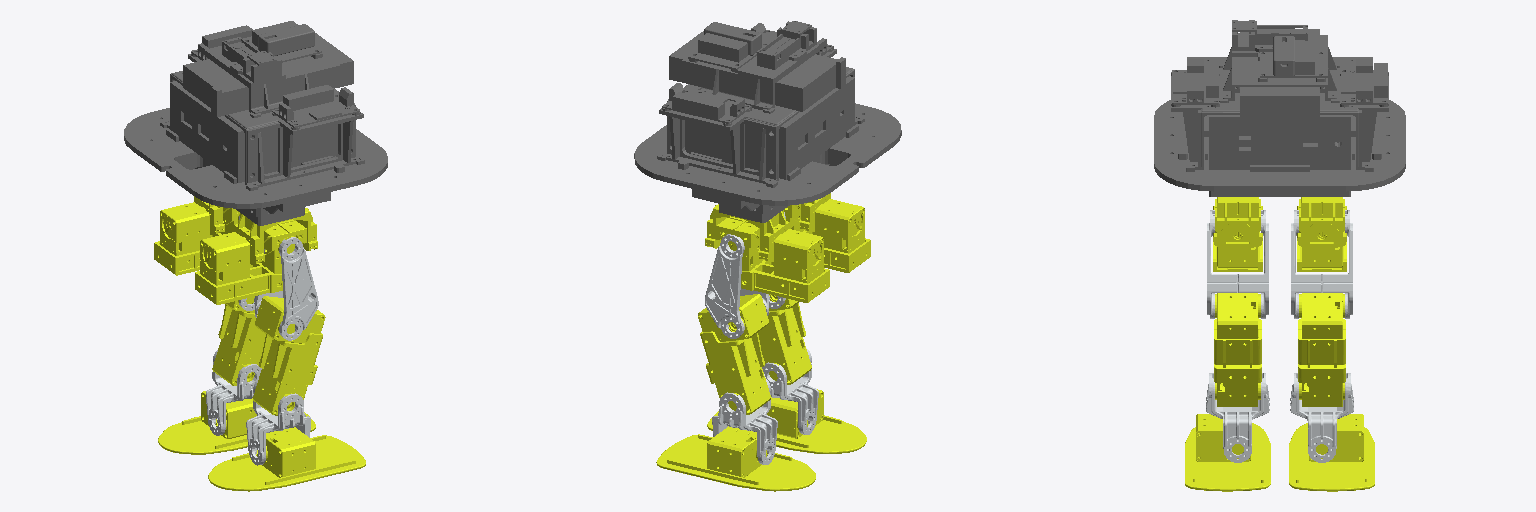
The robot description file, URDF, robot "exhx5_w_b_16":
<?xml version="1.0" encoding="utf-8"?>
<!-- This URDF was automatically created by SolidWorks to URDF Exporter! Originally created by [author] ([email redacted]) 
     Commit Version: 1.5.1-0-g916b5db  Build Version: 1.5.7152.31018
     For more information, please see http://wiki.ros.org/sw_urdf_exporter -->
<robot
  name="exhx5_w_b_16">
  <link
    name="body_link">
    <inertial>
      <origin
        xyz="0.00043545 0.00025536 0.10071"
        rpy="0 0 0" />
      <mass
        value="1.8238" />
      <inertia
        ixx="0.0025905"
        ixy="-5.6852E-06"
        ixz="-1.3106E-05"
        iyy="0.0024595"
        iyz="-1.261E-06"
        izz="0.0046407" />
    </inertial>
    <visual>
      <origin
        xyz="0 0 0"
        rpy="0 0 0" />
      <geometry>
        <mesh
          filename="../meshes/body_link.STL" />
      </geometry>
      <material
        name="">
        <color
          rgba="0.49804 0.49804 0.49804 1" />
      </material>
    </visual>
    <collision>
      <origin
        xyz="0 0 0"
        rpy="0 0 0" />
      <geometry>
        <mesh
          filename="../meshes/body_link.STL" />
      </geometry>
    </collision>
  </link>

  <link
    name="imu_link">
    <inertial>
      <origin
        xyz="-0.008387 1.336E-17 -0.0069463"
        rpy="0 0 0" />
      <mass
        value="0.0062931" />
      <inertia
        ixx="3.2242E-07"
        ixy="3.3527E-22"
        ixz="-6.9193E-08"
        iyy="9.2229E-07"
        iyz="-8.0392E-22"
        izz="1.1018E-06" />
    </inertial>
    <visual>
      <origin
        xyz="0 0 0"
        rpy="0 0 0" />
      <geometry>
        <mesh
          filename="../meshes/imu_link.STL" />
      </geometry>
      <material
        name="">
        <color
          rgba="0.79216 0.81961 0.93333 1" />
      </material>
    </visual>
    <collision>
      <origin
        xyz="0 0 0"
        rpy="0 0 0" />
      <geometry>
        <mesh
          filename="../meshes/imu_link.STL" />
      </geometry>
    </collision>
  </link>
  <joint
    name="imu"
    type="fixed">
    <origin
      xyz="0 0 0.0492"
      rpy="0 0 0" />
    <parent
      link="body_link" />
    <child
      link="imu_link" />
    <axis
      xyz="0 0 0" />
    <limit
      lower="-3.14"
      upper="3.14"
      effort="4"
      velocity="4" />
  </joint>
  <link
    name="l_hip_g_link">
    <inertial>
      <origin
        xyz="-0.0043797 -8.6604E-08 0.011813"
        rpy="0 0 0" />
      <mass
        value="0.061008" />
      <inertia
        ixx="1.167E-05"
        ixy="7.1767E-11"
        ixz="9.1442E-09"
        iyy="2.2342E-05"
        iyz="2.5177E-11"
        izz="2.4892E-05" />
    </inertial>
    <visual>
      <origin
        xyz="0 0 0"
        rpy="0 0 0" />
      <geometry>
        <mesh
          filename="../meshes/l_hip_g_link.STL" />
      </geometry>
      <material
        name="">
        <color
          rgba="0.9451 1 0.18431 1" />
      </material>
    </visual>
    <collision>
      <origin
        xyz="0 0 0"
        rpy="0 0 0" />
      <geometry>
        <mesh
          filename="../meshes/l_hip_g_link.STL" />
      </geometry>
    </collision>
  </link>
  <joint
    name="l_hip_g"
    type="fixed">
    <origin
      xyz="-.002 .035 0"
      rpy="0 0 0" />
    <parent
      link="body_link" />
    <child
      link="l_hip_g_link" />
    <axis
      xyz="0 0 0" />
  </joint>
  <link
    name="l_hip_roll_link">
    <inertial>
      <origin
        xyz="0.013831 0.00033457 0.025453"
        rpy="0 0 0" />
      <mass
        value="0.2969" />
      <inertia
        ixx="7.8136E-05"
        ixy="7.265E-07"
        ixz="-6.9809E-08"
        iyy="9.2183E-05"
        iyz="-5.6881E-11"
        izz="7.1034E-05" />
    </inertial>
    <visual>
      <origin
        xyz="0 0 0"
        rpy="0 0 0" />
      <geometry>
        <mesh
          filename="../meshes/l_hip_roll_link.STL" />
      </geometry>
      <material
        name="">
        <color
          rgba="0.9451 1 0.18431 1" />
      </material>
    </visual>
    <collision>
      <origin
        xyz="0 0 0"
        rpy="0 0 0" />
      <geometry>
        <mesh
          filename="../meshes/l_hip_roll_link.STL" />
      </geometry>
    </collision>
  </link>
  <joint
    name="l_hip_roll"
    type="revolute">
    <origin
      xyz="0 0 0"
      rpy="3.1416 1.5708 0" />
    <parent
      link="l_hip_g_link" />
    <child
      link="l_hip_roll_link" />
    <axis
      xyz="0 0 1" />
    <limit
      lower="-3.14"
      upper="3.14"
      effort="4"
      velocity="4" />
  </joint>
  <link
    name="l_hip_pitch_link">
    <inertial>
      <origin
        xyz="0.041225 -0.007321 -5.0713E-08"
        rpy="0 0 0" />
      <mass
        value="0.051592" />
      <inertia
        ixx="2.7959E-05"
        ixy="2.0752E-06"
        ixz="-8.0934E-11"
        iyy="4.8156E-05"
        iyz="3.6317E-11"
        izz="2.9604E-05" />
    </inertial>
    <visual>
      <origin
        xyz="0 0 0"
        rpy="0 0 0" />
      <geometry>
        <mesh
          filename="../meshes/l_hip_pitch_link.STL" />
      </geometry>
      <material
        name="">
        <color
          rgba="0.89804 0.91765 0.92941 1" />
      </material>
    </visual>
    <collision>
      <origin
        xyz="0 0 0"
        rpy="0 0 0" />
      <geometry>
        <mesh
          filename="../meshes/l_hip_pitch_link.STL" />
      </geometry>
    </collision>
  </link>
  <joint
    name="l_hip_pitch"
    type="revolute">
    <origin
      xyz="0 0 0"
      rpy="1.5708 0 0" />
    <parent
      link="l_hip_roll_link" />
    <child
      link="l_hip_pitch_link" />
    <axis
      xyz="0 0 1" />
    <limit
      lower="-3.14"
      upper="3.14"
      effort="4"
      velocity="4" />
  </joint>
  <link
    name="l_knee_link">
    <inertial>
      <origin
        xyz="0.033756 -0.0084189 -6.6115E-09"
        rpy="0 0 0" />
      <mass
        value="0.28878" />
      <inertia
        ixx="6.6724E-05"
        ixy="7.5004E-07"
        ixz="-8.4578E-07"
        iyy="6.5699E-05"
        iyz="4.1085E-07"
        izz="7.0381E-05" />
    </inertial>
    <visual>
      <origin
        xyz="0 0 0"
        rpy="0 0 0" />
      <geometry>
        <mesh
          filename="../meshes/l_knee_link.STL" />
      </geometry>
      <material
        name="">
        <color
          rgba="0.9451 1 0.18431 1" />
      </material>
    </visual>
    <collision>
      <origin
        xyz="0 0 0"
        rpy="0 0 0" />
      <geometry>
        <mesh
          filename="../meshes/l_knee_link.STL" />
      </geometry>
    </collision>
  </link>
  <joint
    name="l_knee"
    type="revolute">
    <origin
      xyz="0.075954 0 0"
      rpy="0 0 0" />
    <parent
      link="l_hip_pitch_link" />
    <child
      link="l_knee_link" />
    <axis
      xyz="0 0 1" />
    <limit
      lower="-3.14"
      upper="3.14"
      effort="4"
      velocity="4" />
  </joint>
  <link
    name="l_ank_pitch_link">
    <inertial>
      <origin
        xyz="0.022786 -7.3909E-09 -7.1981E-06"
        rpy="0 0 0" />
      <mass
        value="0.044772" />
      <inertia
        ixx="1.777E-05"
        ixy="8.555E-14"
        ixz="-3.3713E-09"
        iyy="1.7119E-05"
        iyz="1.7593E-11"
        izz="1.8661E-05" />
    </inertial>
    <visual>
      <origin
        xyz="0 0 0"
        rpy="0 0 0" />
      <geometry>
        <mesh
          filename="../meshes/l_ank_pitch_link.STL" />
      </geometry>
      <material
        name="">
        <color
          rgba="0.89804 0.91765 0.92941 1" />
      </material>
    </visual>
    <collision>
      <origin
        xyz="0 0 0"
        rpy="0 0 0" />
      <geometry>
        <mesh
          filename="../meshes/l_ank_pitch_link.STL" />
      </geometry>
    </collision>
  </link>
  <joint
    name="l_ank_pitch"
    type="revolute">
    <origin
      xyz="0.074602 0 0"
      rpy="3.1416 0 0" />
    <parent
      link="l_knee_link" />
    <child
      link="l_ank_pitch_link" />
    <axis
      xyz="0 0 1" />
    <limit
      lower="-3.14"
      upper="3.14"
      effort="4"
      velocity="4" />
  </joint>
  <link
    name="l_ank_roll_link">
    <inertial>
      <origin
        xyz="0.0047069 0.010728 0.0015299"
        rpy="0 0 0" />
      <mass
        value="0.16774" />
      <inertia
        ixx="0.00012039"
        ixy="-3.7428E-09"
        ixz="4.4069E-08"
        iyy="8.7735E-05"
        iyz="7.0469E-07"
        izz="4.7866E-05" />
    </inertial>
    <visual>
      <origin
        xyz="0 0 0"
        rpy="0 0 0" />
      <geometry>
        <mesh
          filename="../meshes/l_ank_roll_link.STL" />
      </geometry>
      <material
        name="">
        <color
          rgba="0.9451 1 0.18431 1" />
      </material>
    </visual>
    <collision>
      <origin
        xyz="0 0 0"
        rpy="0 0 0" />
      <geometry>
        <mesh
          filename="../meshes/l_ank_roll_link.STL" />
      </geometry>
    </collision>
  </link>
  <joint
    name="l_ank_roll"
    type="revolute">
    <origin
      xyz="0.0465 0 0"
      rpy="-1.5708 0 0" />
    <parent
      link="l_ank_pitch_link" />
    <child
      link="l_ank_roll_link" />
    <axis
      xyz="0 0 1" />
    <limit
      lower="-3.14"
      upper="3.14"
      effort="4"
      velocity="4" />
  </joint>
  <link
    name="r_hip_g_link">
    <inertial>
      <origin
        xyz="-0.0043797 -8.6604E-08 0.011813"
        rpy="0 0 0" />
      <mass
        value="0.061008" />
      <inertia
        ixx="1.167E-05"
        ixy="7.1767E-11"
        ixz="9.1442E-09"
        iyy="2.2342E-05"
        iyz="2.5177E-11"
        izz="2.4892E-05" />
    </inertial>
    <visual>
      <origin
        xyz="0 0 0"
        rpy="0 0 0" />
      <geometry>
        <mesh
          filename="../meshes/r_hip_g_link.STL" />
      </geometry>
      <material
        name="">
        <color
          rgba="0.9451 1 0.18431 1" />
      </material>
    </visual>
    <collision>
      <origin
        xyz="0 0 0"
        rpy="0 0 0" />
      <geometry>
        <mesh
          filename="../meshes/r_hip_g_link.STL" />
      </geometry>
    </collision>
  </link>
  <joint
    name="r_hip_g"
    type="fixed">
    <origin
      xyz="-.002 -.035 0"
      rpy="0 0 0" />
    <parent
      link="body_link" />
    <child
      link="r_hip_g_link" />
    <axis
      xyz="0 0 0" />
  </joint>
  <link
    name="r_hip_roll_link">
    <inertial>
      <origin
        xyz="0.013831 0.00033457 0.025453"
        rpy="0 0 0" />
      <mass
        value="0.2969" />
      <inertia
        ixx="7.8136E-05"
        ixy="7.265E-07"
        ixz="-6.9809E-08"
        iyy="9.2183E-05"
        iyz="-5.6881E-11"
        izz="7.1034E-05" />
    </inertial>
    <visual>
      <origin
        xyz="0 0 0"
        rpy="0 0 0" />
      <geometry>
        <mesh
          filename="../meshes/r_hip_roll_link.STL" />
      </geometry>
      <material
        name="">
        <color
          rgba="0.9451 1 0.18431 1" />
      </material>
    </visual>
    <collision>
      <origin
        xyz="0 0 0"
        rpy="0 0 0" />
      <geometry>
        <mesh
          filename="../meshes/r_hip_roll_link.STL" />
      </geometry>
    </collision>
  </link>
  <joint
    name="r_hip_roll"
    type="revolute">
    <origin
      xyz="0 0 0"
      rpy="3.1416 1.5708 0" />
    <parent
      link="r_hip_g_link" />
    <child
      link="r_hip_roll_link" />
    <axis
      xyz="0 0 1" />
    <limit
      lower="-3.14"
      upper="3.14"
      effort="4"
      velocity="4" />
  </joint>
  <link
    name="r_hip_pitch_link">
    <inertial>
      <origin
        xyz="0.041225 0.007321 5.0713E-08"
        rpy="0 0 0" />
      <mass
        value="0.051592" />
      <inertia
        ixx="2.7959E-05"
        ixy="-2.0752E-06"
        ixz="8.0934E-11"
        iyy="4.8156E-05"
        iyz="3.6317E-11"
        izz="2.9604E-05" />
    </inertial>
    <visual>
      <origin
        xyz="0 0 0"
        rpy="0 0 0" />
      <geometry>
        <mesh
          filename="../meshes/r_hip_pitch_link.STL" />
      </geometry>
      <material
        name="">
        <color
          rgba="0.89804 0.91765 0.92941 1" />
      </material>
    </visual>
    <collision>
      <origin
        xyz="0 0 0"
        rpy="0 0 0" />
      <geometry>
        <mesh
          filename="../meshes/r_hip_pitch_link.STL" />
      </geometry>
    </collision>
  </link>
  <joint
    name="r_hip_pitch"
    type="revolute">
    <origin
      xyz="0 0 0"
      rpy="-1.5708 0 0" />
    <parent
      link="r_hip_roll_link" />
    <child
      link="r_hip_pitch_link" />
    <axis
      xyz="0 0 1" />
    <limit
      lower="-3.14"
      upper="3.14"
      effort="4"
      velocity="4" />
  </joint>
  <link
    name="r_knee_link">
    <inertial>
      <origin
        xyz="0.033757 0.0084176 6.6115E-09"
        rpy="0 0 0" />
      <mass
        value="0.28878" />
      <inertia
        ixx="6.6724E-05"
        ixy="-7.5008E-07"
        ixz="8.458E-07"
        iyy="6.5699E-05"
        iyz="4.1081E-07"
        izz="7.0381E-05" />
    </inertial>
    <visual>
      <origin
        xyz="0 0 0"
        rpy="0 0 0" />
      <geometry>
        <mesh
          filename="../meshes/r_knee_link.STL" />
      </geometry>
      <material
        name="">
        <color
          rgba="0.9451 1 0.18431 1" />
      </material>
    </visual>
    <collision>
      <origin
        xyz="0 0 0"
        rpy="0 0 0" />
      <geometry>
        <mesh
          filename="../meshes/r_knee_link.STL" />
      </geometry>
    </collision>
  </link>
  <joint
    name="r_knee"
    type="revolute">
    <origin
      xyz="0.075954 0 0"
      rpy="0 0 0" />
    <parent
      link="r_hip_pitch_link" />
    <child
      link="r_knee_link" />
    <axis
      xyz="0 0 1" />
    <limit
      lower="-3.14"
      upper="3.14"
      effort="4"
      velocity="4" />
  </joint>
  <link
    name="r_ank_pitch_link">
    <inertial>
      <origin
        xyz="0.025786 -7.3887E-09 -7.1981E-06"
        rpy="0 0 0" />
      <mass
        value="0.044772" />
      <inertia
        ixx="1.777E-05"
        ixy="8.5434E-14"
        ixz="-3.3713E-09"
        iyy="1.7119E-05"
        iyz="1.7592E-11"
        izz="1.8661E-05" />
    </inertial>
    <visual>
      <origin
        xyz="0 0 0"
        rpy="0 0 0" />
      <geometry>
        <mesh
          filename="../meshes/r_ank_pitch_link.STL" />
      </geometry>
      <material
        name="">
        <color
          rgba="0.89804 0.91765 0.92941 1" />
      </material>
    </visual>
    <collision>
      <origin
        xyz="0 0 0"
        rpy="0 0 0" />
      <geometry>
        <mesh
          filename="../meshes/r_ank_pitch_link.STL" />
      </geometry>
    </collision>
  </link>
  <joint
    name="r_ank_pitch"
    type="revolute">
    <origin
      xyz="0.071602 0 0"
      rpy="3.1416 0 0" />
    <parent
      link="r_knee_link" />
    <child
      link="r_ank_pitch_link" />
    <axis
      xyz="0 0 1" />
    <limit
      lower="-3.14"
      upper="3.14"
      effort="4"
      velocity="4" />
  </joint>
  <link
    name="r_ank_roll_link">
    <inertial>
      <origin
        xyz="0.0077069 -0.010728 0.0015299"
        rpy="0 0 0" />
      <mass
        value="0.16774" />
      <inertia
        ixx="0.00012039"
        ixy="3.743E-09"
        ixz="4.407E-08"
        iyy="8.7735E-05"
        iyz="-7.0467E-07"
        izz="4.7866E-05" />
    </inertial>
    <visual>
      <origin
        xyz="0 0 0"
        rpy="0 0 0" />
      <geometry>
        <mesh
          filename="../meshes/r_ank_roll_link.STL" />
      </geometry>
      <material
        name="">
        <color
          rgba="0.9451 1 0.18431 1" />
      </material>
    </visual>
    <collision>
      <origin
        xyz="0 0 0"
        rpy="0 0 0" />
      <geometry>
        <mesh
          filename="../meshes/r_ank_roll_link.STL" />
      </geometry>
    </collision>
  </link>
  <joint
    name="r_ank_roll"
    type="revolute">
    <origin
      xyz="0.0465 0 0"
      rpy="1.5708 0 0" />
    <parent
      link="r_ank_pitch_link" />
    <child
      link="r_ank_roll_link" />
    <axis
      xyz="0 0 1" />
    <limit
      lower="-3.14"
      upper="3.14"
      effort="4"
      velocity="4" />
  </joint>
  <transmission name="r_hip_roll_tran">
    <type>transmission_interface/SimpleTransmission</type>
    <joint name="r_hip_roll">
      <hardwareInterface>hardware_interface/EffortJointInterface</hardwareInterface>
    </joint>
    <actuator name="r_hip_roll_motor">
      <hardwareInterface>hardware_interface/EffortJointInterface</hardwareInterface>
      <mechanicalReduction>1</mechanicalReduction>
    </actuator>
  </transmission>
  <transmission name="r_hip_pitch_tran">
    <type>transmission_interface/SimpleTransmission</type>
    <joint name="r_hip_pitch">
      <hardwareInterface>hardware_interface/EffortJointInterface</hardwareInterface>
    </joint>
    <actuator name="r_hip_pitch_motor">
      <hardwareInterface>hardware_interface/EffortJointInterface</hardwareInterface>
      <mechanicalReduction>1</mechanicalReduction>
    </actuator>
  </transmission>
  <transmission name="r_knee_tran">
    <type>transmission_interface/SimpleTransmission</type>
    <joint name="r_knee">
      <hardwareInterface>hardware_interface/EffortJointInterface</hardwareInterface>
    </joint>
    <actuator name="r_knee_motor">
      <hardwareInterface>hardware_interface/EffortJointInterface</hardwareInterface>
      <mechanicalReduction>1</mechanicalReduction>
    </actuator>
  </transmission>
  <transmission name="r_ank_pitch_tran">
    <type>transmission_interface/SimpleTransmission</type>
    <joint name="r_ank_pitch">
      <hardwareInterface>hardware_interface/EffortJointInterface</hardwareInterface>
    </joint>
    <actuator name="r_ank_pitch_motor">
      <hardwareInterface>hardware_interface/EffortJointInterface</hardwareInterface>
      <mechanicalReduction>1</mechanicalReduction>
    </actuator>
  </transmission>
  <transmission name="r_ank_roll_tran">
    <type>transmission_interface/SimpleTransmission</type>
    <joint name="r_ank_roll">
      <hardwareInterface>hardware_interface/EffortJointInterface</hardwareInterface>
    </joint>
    <actuator name="r_ank_roll_motor">
      <hardwareInterface>hardware_interface/EffortJointInterface</hardwareInterface>
      <mechanicalReduction>1</mechanicalReduction>
    </actuator>
  </transmission>
  <transmission name="l_hip_roll_tran">
    <type>transmission_interface/SimpleTransmission</type>
    <joint name="l_hip_roll">
      <hardwareInterface>hardware_interface/EffortJointInterface</hardwareInterface>
    </joint>
    <actuator name="l_hip_roll_motor">
      <hardwareInterface>hardware_interface/EffortJointInterface</hardwareInterface>
      <mechanicalReduction>1</mechanicalReduction>
    </actuator>
  </transmission>
  <transmission name="l_hip_pitch_tran">
    <type>transmission_interface/SimpleTransmission</type>
    <joint name="l_hip_pitch">
      <hardwareInterface>hardware_interface/EffortJointInterface</hardwareInterface>
    </joint>
    <actuator name="l_hip_pitch_motor">
      <hardwareInterface>hardware_interface/EffortJointInterface</hardwareInterface>
      <mechanicalReduction>1</mechanicalReduction>
    </actuator>
  </transmission>
  <transmission name="l_knee_tran">
    <type>transmission_interface/SimpleTransmission</type>
    <joint name="l_knee">
      <hardwareInterface>hardware_interface/EffortJointInterface</hardwareInterface>
    </joint>
    <actuator name="l_knee_motor">
      <hardwareInterface>hardware_interface/EffortJointInterface</hardwareInterface>
      <mechanicalReduction>1</mechanicalReduction>
    </actuator>
  </transmission>
  <transmission name="l_ank_pitch_tran">
    <type>transmission_interface/SimpleTransmission</type>
    <joint name="l_ank_pitch">
      <hardwareInterface>hardware_interface/EffortJointInterface</hardwareInterface>
    </joint>
    <actuator name="l_ank_pitch_motor">
      <hardwareInterface>hardware_interface/EffortJointInterface</hardwareInterface>
      <mechanicalReduction>1</mechanicalReduction>
    </actuator>
  </transmission>
  <transmission name="l_ank_roll_tran">
    <type>transmission_interface/SimpleTransmission</type>
    <joint name="l_ank_roll">
      <hardwareInterface>hardware_interface/EffortJointInterface</hardwareInterface>
    </joint>
    <actuator name="l_ank_roll_motor">
      <hardwareInterface>hardware_interface/EffortJointInterface</hardwareInterface>
      <mechanicalReduction>1</mechanicalReduction>
    </actuator>
  </transmission>
</robot>

--- Render facts (derived) ---
3 views of the same robot in one strip: view 1: azimuth 30°, elevation 25°; view 2: azimuth 150°, elevation 25°; view 3: azimuth 270°, elevation 25° (orthographic).
Model exhx5_w_b_16 with 14 links and 13 joints (10 revolute, 3 fixed), rooted at body_link, posed all joints at 0.
Visible links, largest first — view 1: body_link, r_ank_roll_link, r_hip_roll_link, r_knee_link, l_hip_roll_link, l_ank_roll_link, r_hip_pitch_link, l_knee_link, r_ank_pitch_link, l_ank_pitch_link, r_hip_g_link; view 2: body_link, l_ank_roll_link, l_hip_roll_link, l_knee_link, r_hip_roll_link, r_ank_roll_link, l_hip_pitch_link, r_knee_link, l_ank_pitch_link, r_ank_pitch_link, l_hip_g_link; view 3: body_link, l_knee_link, r_knee_link, r_ank_roll_link, l_ank_roll_link, l_ank_pitch_link, r_ank_pitch_link, l_hip_pitch_link, r_hip_pitch_link, l_hip_g_link, r_hip_g_link, l_hip_roll_link (+1 smaller).
Link boxes in pixels (bbox=[...]): body_link: bbox=[124, 21, 387, 253]; r_ank_roll_link: bbox=[208, 427, 365, 491]; r_hip_roll_link: bbox=[195, 219, 306, 304]; r_knee_link: bbox=[253, 296, 325, 415]; l_hip_roll_link: bbox=[154, 202, 239, 275]; l_ank_roll_link: bbox=[158, 391, 315, 454]; r_hip_pitch_link: bbox=[254, 237, 318, 340]; l_knee_link: bbox=[212, 296, 265, 385]; r_ank_pitch_link: bbox=[246, 379, 310, 465]; l_ank_pitch_link: bbox=[206, 350, 261, 435]; r_hip_g_link: bbox=[234, 208, 317, 264]; body_link: bbox=[634, 21, 901, 222]; l_ank_roll_link: bbox=[656, 426, 815, 491]; l_hip_roll_link: bbox=[716, 216, 829, 302]; l_knee_link: bbox=[698, 294, 770, 414]; r_hip_roll_link: bbox=[784, 199, 870, 272]; r_ank_roll_link: bbox=[707, 389, 866, 453]; l_hip_pitch_link: bbox=[705, 234, 769, 338]; r_knee_link: bbox=[758, 294, 811, 384]; l_ank_pitch_link: bbox=[712, 377, 777, 464]; r_ank_pitch_link: bbox=[762, 348, 818, 434]; l_hip_g_link: bbox=[705, 204, 789, 261]; body_link: bbox=[1154, 20, 1405, 196]; l_knee_link: bbox=[1298, 293, 1345, 406]; r_knee_link: bbox=[1214, 293, 1261, 406]; r_ank_roll_link: bbox=[1185, 414, 1270, 491]; l_ank_roll_link: bbox=[1289, 414, 1374, 491]; l_ank_pitch_link: bbox=[1290, 373, 1353, 462]; r_ank_pitch_link: bbox=[1206, 373, 1269, 462]; l_hip_pitch_link: bbox=[1291, 210, 1352, 318]; r_hip_pitch_link: bbox=[1207, 210, 1268, 318]; l_hip_g_link: bbox=[1297, 197, 1346, 246]; r_hip_g_link: bbox=[1213, 197, 1262, 246]; l_hip_roll_link: bbox=[1297, 199, 1346, 271].
Size in the robot's own frame: 0.185 by 0.21 by 0.3893 metres.
Meshes: 14 distinct files referenced, 14 mesh visuals loaded (14 binary STL).